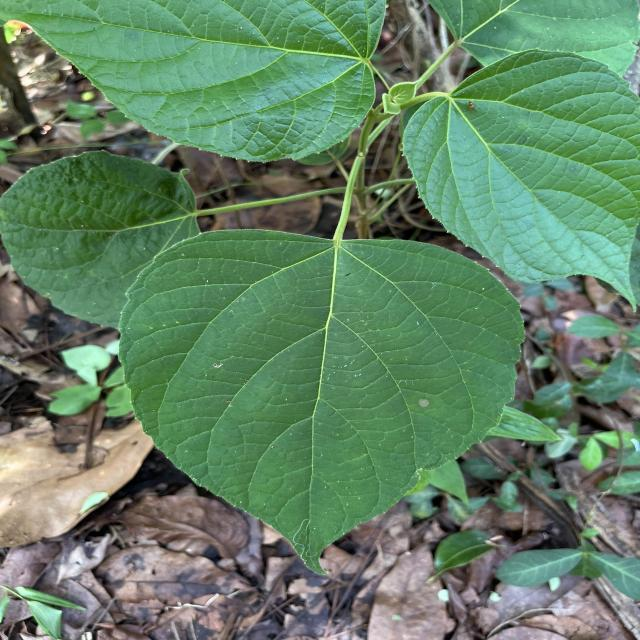Clerodendrum infortunatum: (118, 228, 526, 577), (398, 47, 640, 313)
